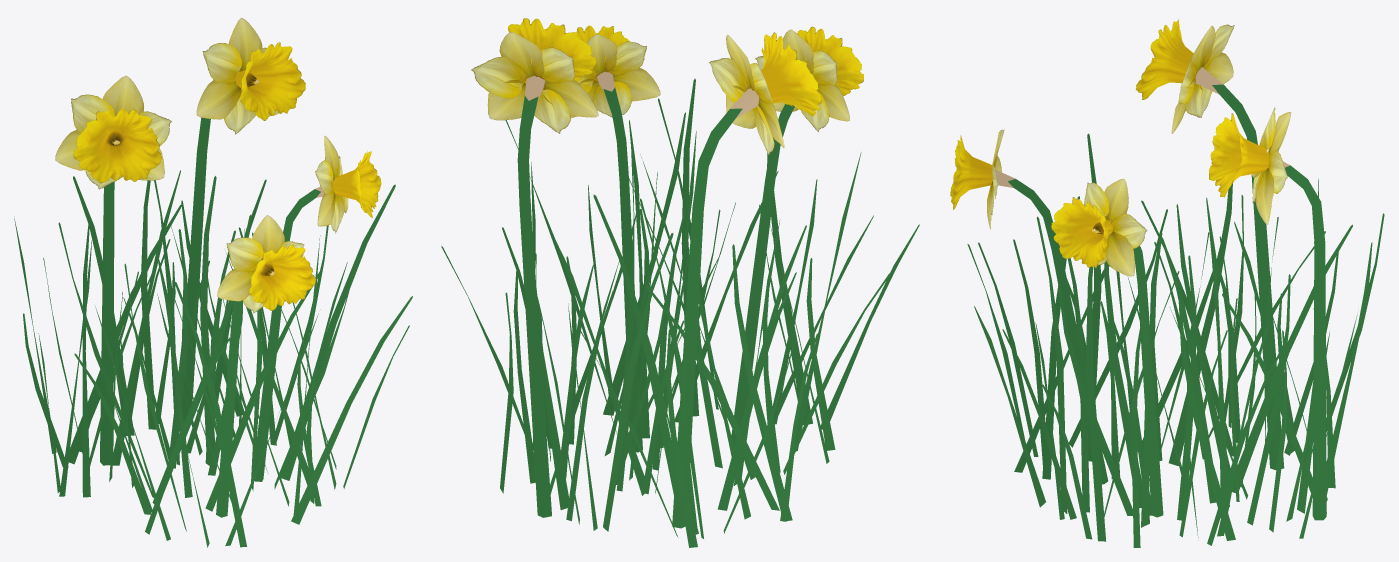
File: m_flower05.fbx
3 renders of one model, left to right at view 1: azimuth 30°, elevation 25°; view 2: azimuth 150°, elevation 25°; view 3: azimuth 270°, elevation 25°, orthographic. The views are drawn at different scales.
Visible parts, largest first — view 1: mesh_flower05; view 2: mesh_flower05; view 3: mesh_flower05.
Part boxes in pixels (left/top/right/bottom): mesh_flower05: left=14, top=18, right=412, bottom=547; mesh_flower05: left=441, top=18, right=919, bottom=547; mesh_flower05: left=950, top=19, right=1384, bottom=547.
Size of the model in its own units: 0.3796 by 0.4534 by 0.4076.
1 material, 1 textured.
